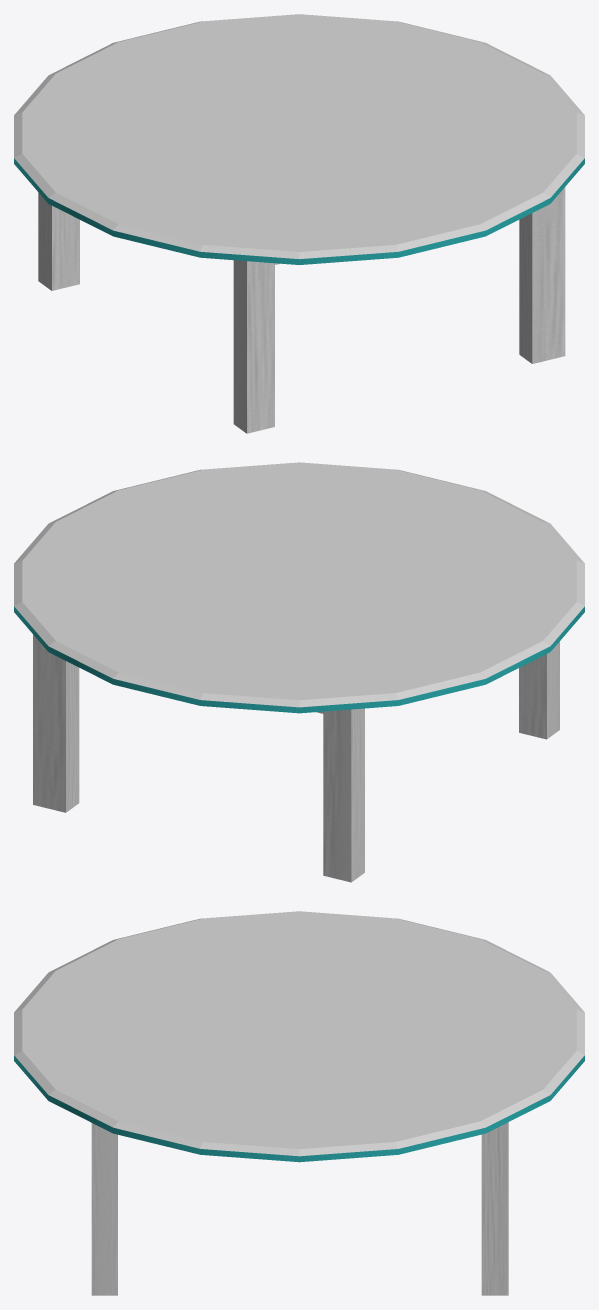
File: Round Table_B.FBX
3 views of the same model, one above another, from view 1: azimuth 30°, elevation 25°; view 2: azimuth 150°, elevation 25°; view 3: azimuth 270°, elevation 25° (orthographic).
Parts seen in each view (by area): view 1: Round Dining table; view 2: Round Dining table; view 3: Round Dining table.
Boxes of the visible parts, left/top/right/bottom form: Round Dining table: left=14, top=14, right=584, bottom=433; Round Dining table: left=14, top=462, right=584, bottom=882; Round Dining table: left=14, top=911, right=584, bottom=1295.
Bounding box in the file's own units: 360 × 128 × 355.
